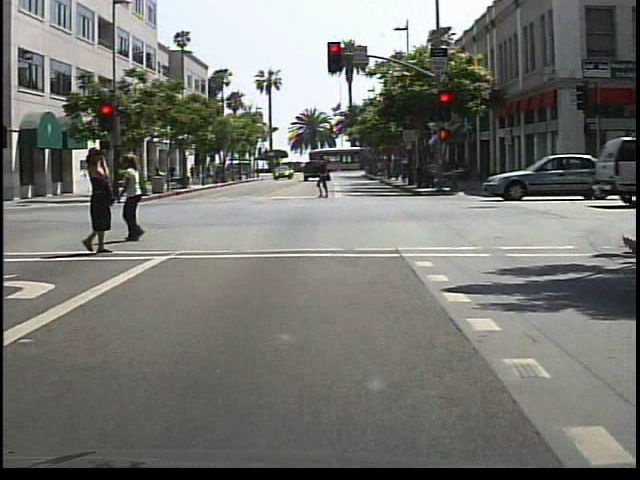person: (75, 145, 126, 257), (119, 155, 158, 241), (314, 152, 339, 201), (2, 148, 10, 264), (164, 161, 179, 188)
